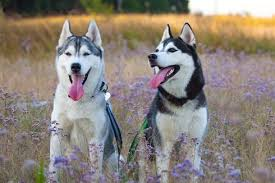Bulldog: (37, 11, 129, 179), (135, 16, 221, 183)
